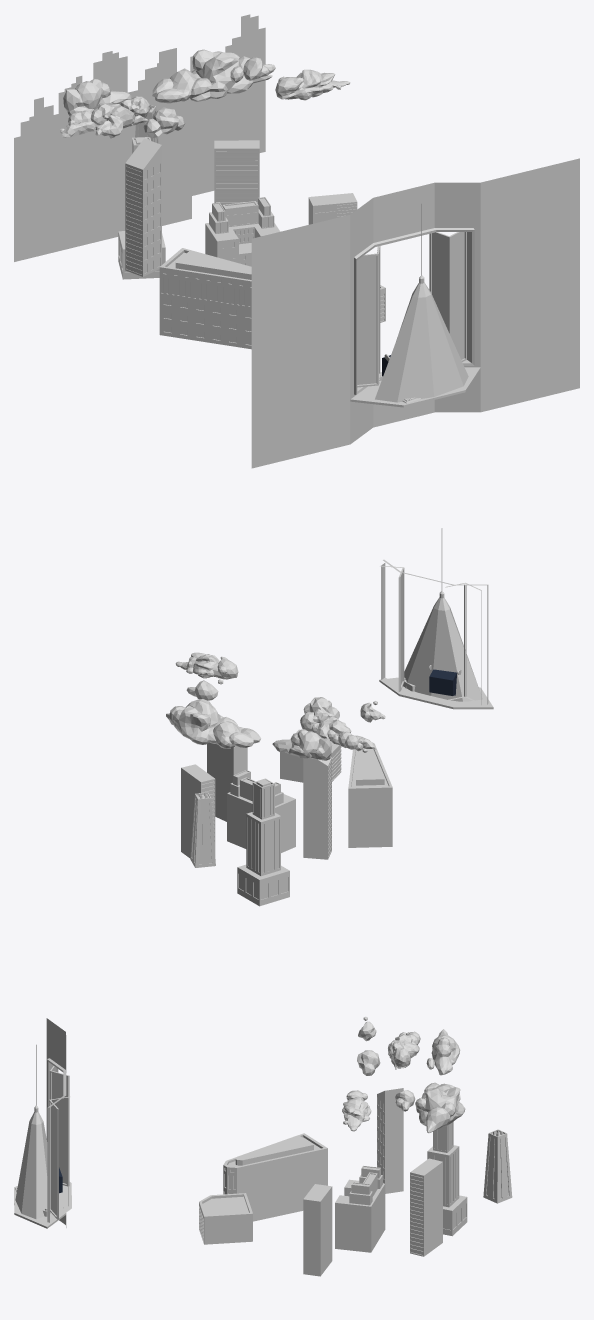
The model's file is models.glb.
3 renders of one model, top to bottom at view 1: azimuth 30°, elevation 25°; view 2: azimuth 150°, elevation 25°; view 3: azimuth 270°, elevation 25°, orthographic. The views are drawn at different scales.
Visible parts, largest first — view 1: wall, city_shadow1, building8, light, city_shadow4, city_shadow3, building7, cloud1, building6, glass_left, glass_right, building2 (+13 smaller); view 2: building8, light, building4, building7, cloud1, building6, building3, building2, wall, cloud11, building1, cloud10 (+7 smaller); view 3: building8, building6, building2, building3, building5, building7, light, building4, wall, cloud1, building1, glass_right (+10 smaller).
Boxes of the visible parts, left/top/right/bottom form: wall: left=251, top=158, right=579, bottom=468; city_shadow1: left=14, top=98, right=191, bottom=261; building8: left=159, top=248, right=251, bottom=349; light: left=375, top=292, right=468, bottom=402; city_shadow4: left=141, top=57, right=248, bottom=195; city_shadow3: left=93, top=14, right=265, bottom=152; building7: left=125, top=138, right=161, bottom=276; cloud1: left=152, top=49, right=272, bottom=103; building6: left=205, top=197, right=279, bottom=266; glass_left: left=432, top=232, right=464, bottom=359; glass_right: left=357, top=247, right=377, bottom=384; building2: left=214, top=140, right=259, bottom=204; building8: left=348, top=742, right=392, bottom=847; light: left=404, top=606, right=482, bottom=701; building4: left=237, top=778, right=289, bottom=906; building7: left=303, top=757, right=331, bottom=859; cloud1: left=166, top=699, right=260, bottom=748; building6: left=227, top=770, right=295, bottom=852; building3: left=207, top=742, right=247, bottom=821; building2: left=181, top=764, right=215, bottom=858; wall: left=381, top=559, right=488, bottom=704; cloud11: left=300, top=709, right=375, bottom=752; building1: left=190, top=792, right=215, bottom=867; cloud10: left=272, top=729, right=332, bottom=760; building8: left=223, top=1133, right=327, bottom=1221; building6: left=335, top=1165, right=385, bottom=1252; building2: left=410, top=1158, right=442, bottom=1256; building3: left=303, top=1184, right=332, bottom=1276; building5: left=199, top=1193, right=252, bottom=1244; building7: left=377, top=1088, right=403, bottom=1193; light: left=15, top=1121, right=51, bottom=1219; building4: left=427, top=1122, right=467, bottom=1236; wall: left=46, top=1018, right=71, bottom=1227; cloud1: left=415, top=1082, right=465, bottom=1133; building1: left=483, top=1129, right=512, bottom=1203; glass_right: left=52, top=1073, right=66, bottom=1183.
Size of the model in its own units: 4.3 by 3 by 7.57.
